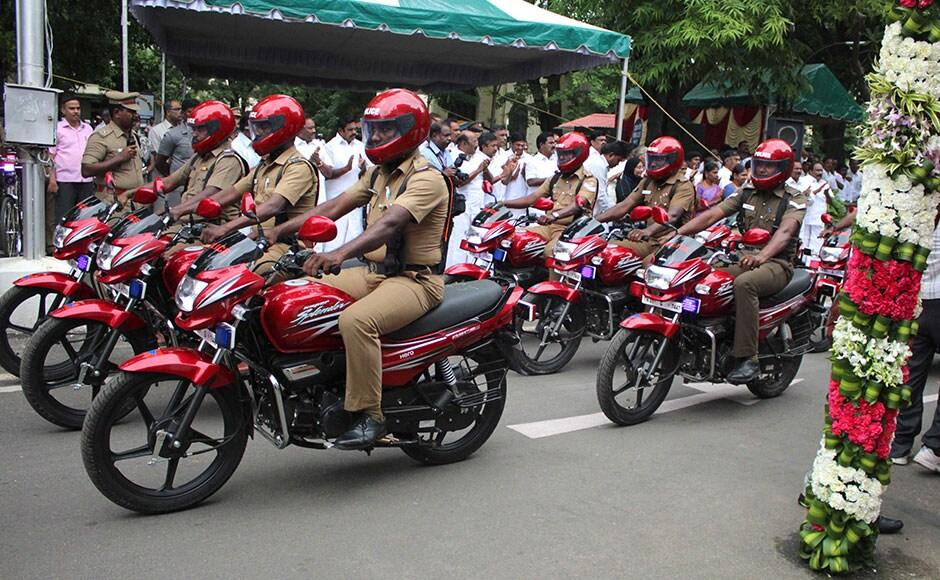helmet: (357, 86, 431, 169), (250, 94, 306, 157), (187, 103, 235, 155), (756, 142, 798, 192), (550, 134, 595, 177), (639, 139, 684, 181)
